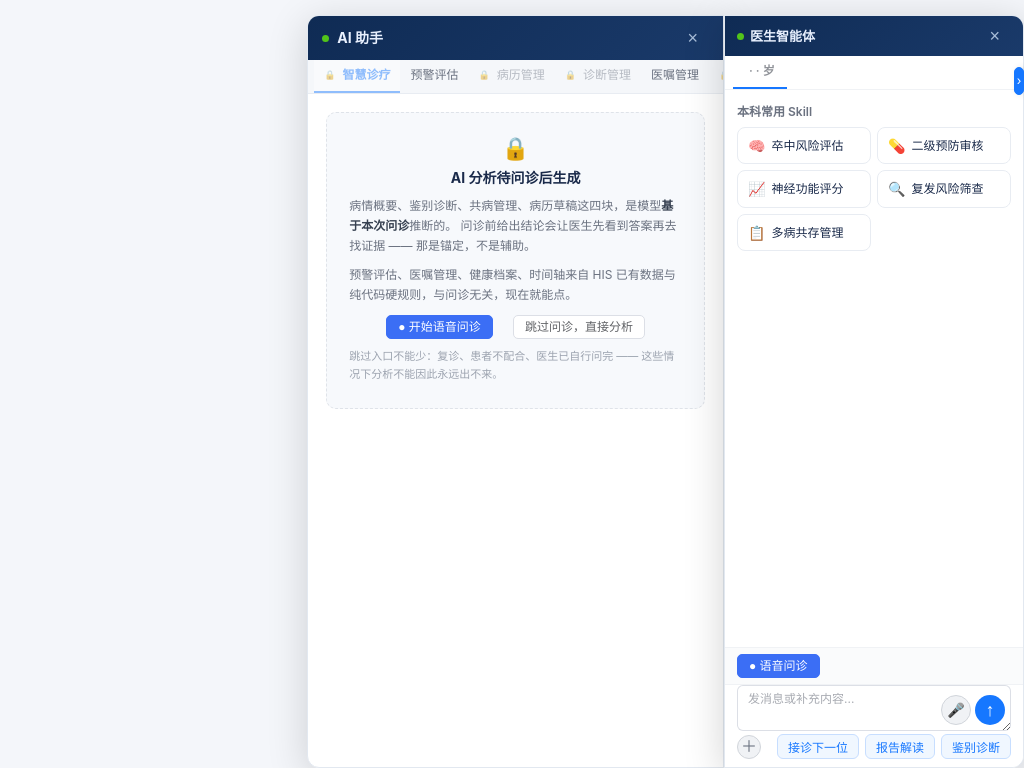
Test: 浮层重新唤出 › 只关抽屉、面板还开着 → 不出浮动按钮，靠面板上的 ‹ › 唤回
Click the button with class "tips-close" at (693, 38), box x1=676 y1=26 x2=709 y2=50
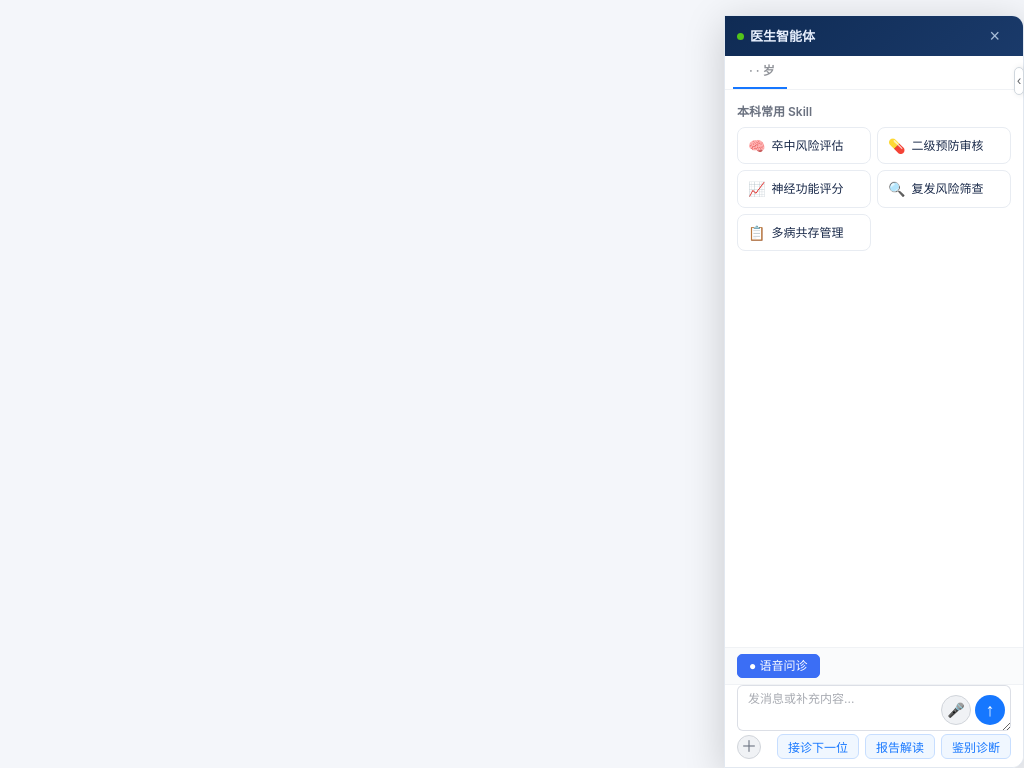
Click the text "‹" at (1019, 81), box x1=1014 y1=67 x2=1023 y2=95
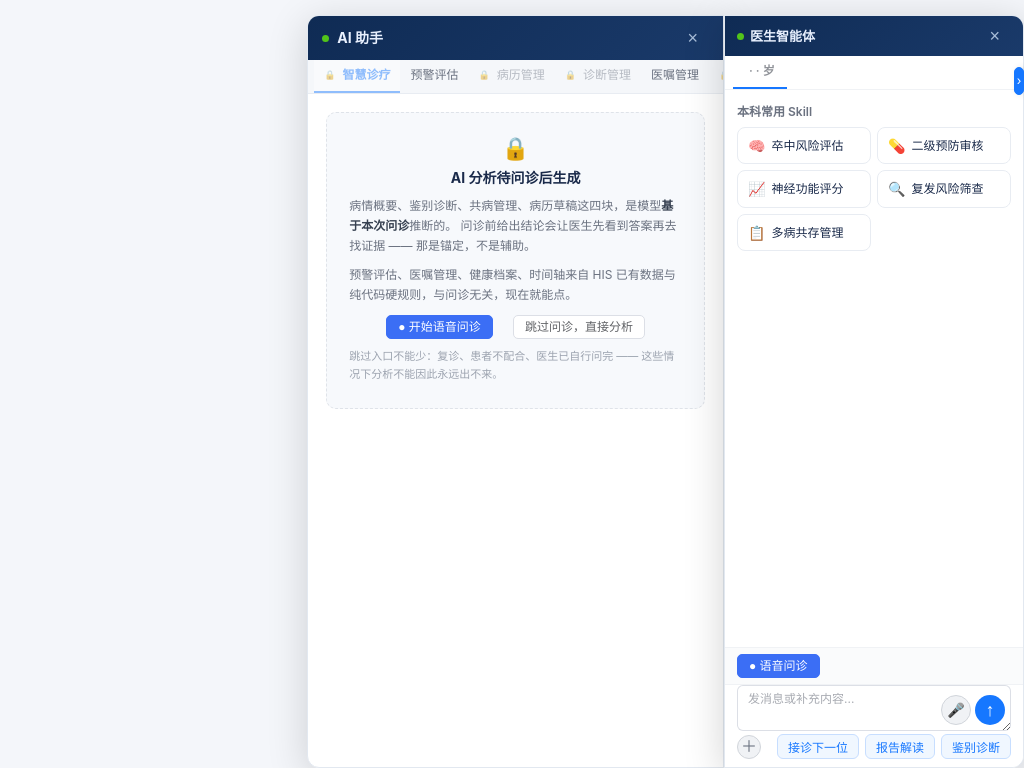
Result: the element with class "tips-drawer" is shown at x1=307 y1=15 x2=724 y2=767
